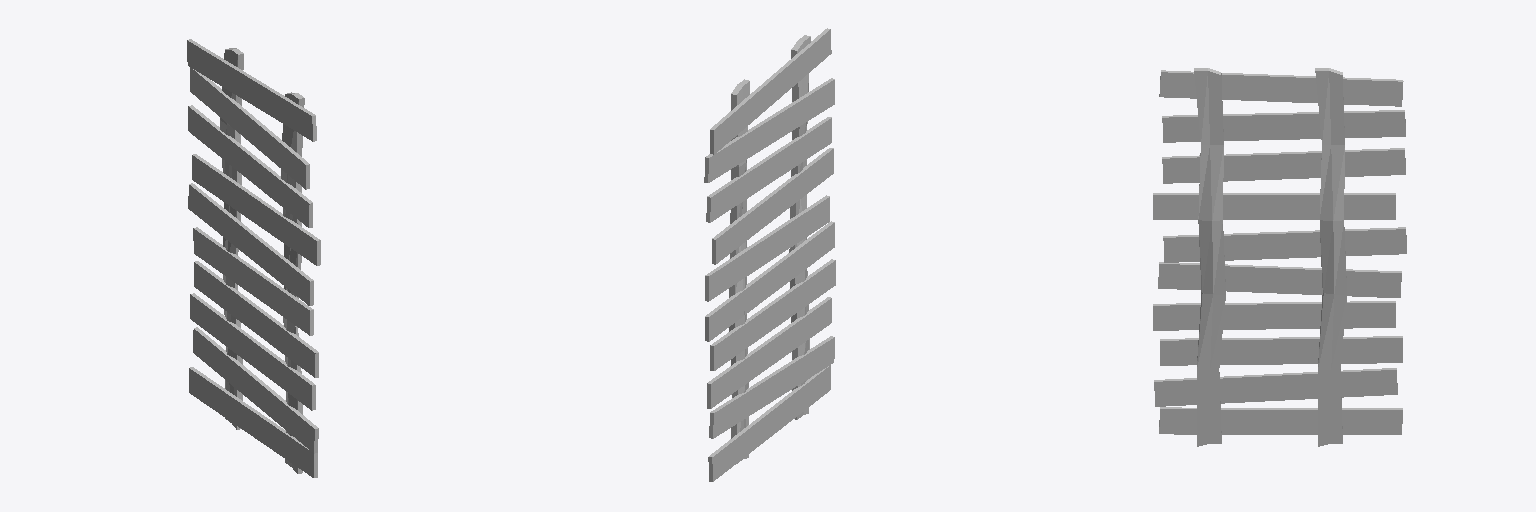
The model's file is fence.obj.
The picture shows the model from 3 angles: view 1: azimuth 30°, elevation 25°; view 2: azimuth 150°, elevation 25°; view 3: azimuth 270°, elevation 25°; orthographic projection.
Parts seen in each view (by area): view 1: Fence; view 2: Fence; view 3: Fence.
Boxes of the visible parts, x1,y1,x2,y2 form: Fence: [187, 39, 320, 477]; Fence: [704, 28, 835, 481]; Fence: [1153, 68, 1406, 446].
Size of the model in its own units: 0.0719 by 1.5 by 0.9191.